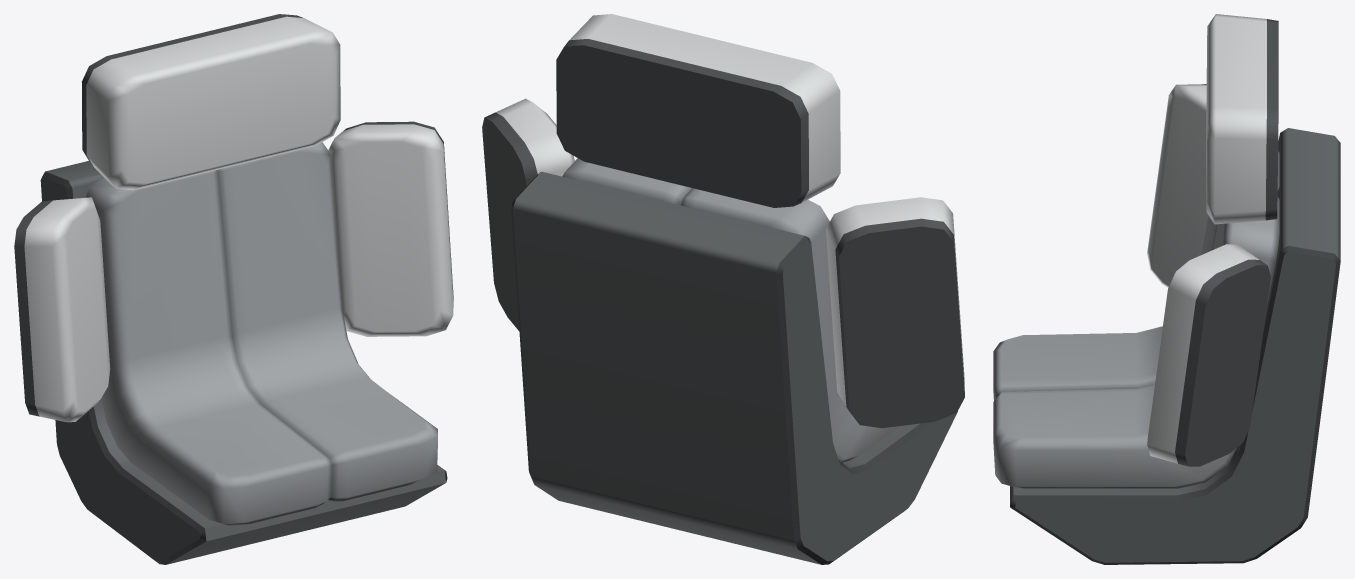
Rendered from Armchair_015_Part_02.fbx.
3 renders of one model, left to right at view 1: azimuth 30°, elevation 25°; view 2: azimuth 150°, elevation 25°; view 3: azimuth 270°, elevation 25°, orthographic. The views are drawn at different scales.
Parts seen in each view (by area): view 1: Armchair_015_Part_02; view 2: Armchair_015_Part_02; view 3: Armchair_015_Part_02.
Boxes of the visible parts, left/top/right/bottom form: Armchair_015_Part_02: left=14, top=14, right=453, bottom=564; Armchair_015_Part_02: left=482, top=14, right=964, bottom=564; Armchair_015_Part_02: left=993, top=14, right=1340, bottom=564.
Size of the model in its own units: 101 by 70.25 by 99.08.
